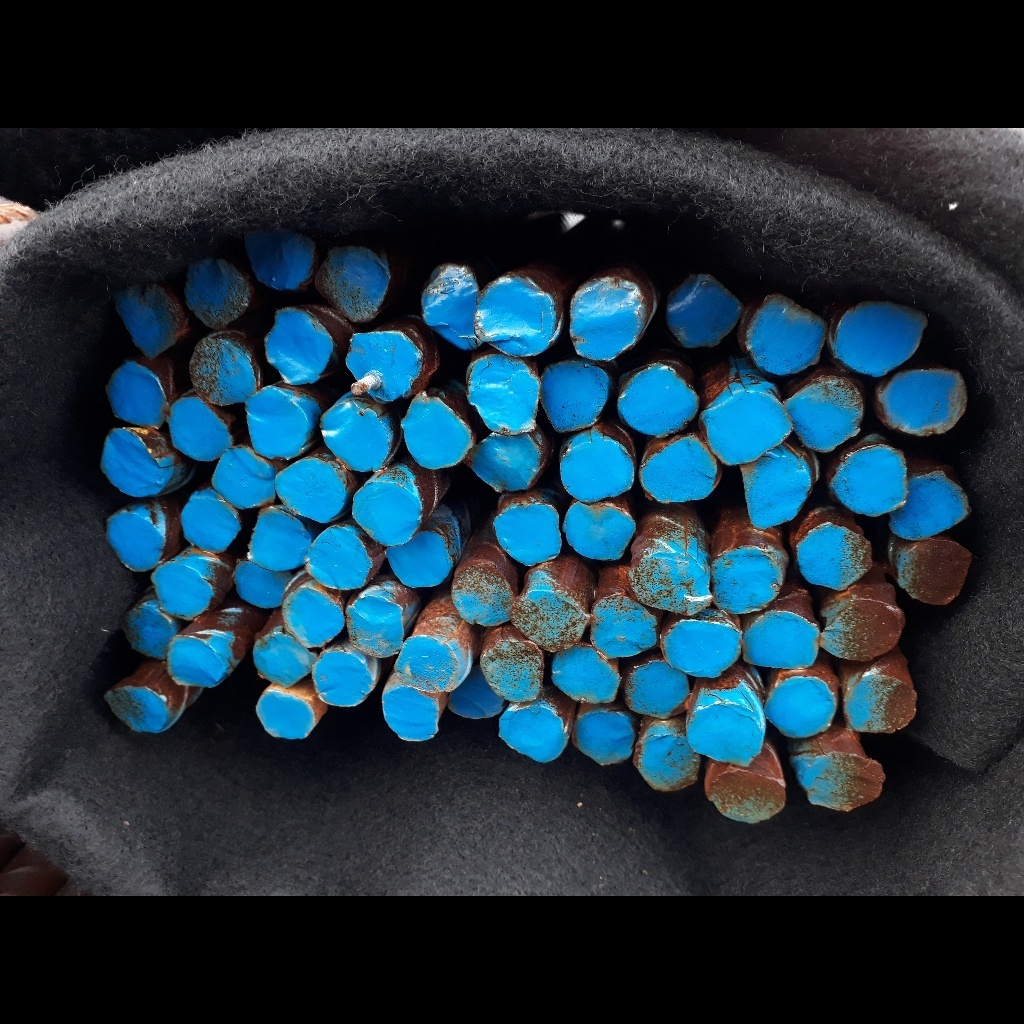dipstick: (834, 304, 926, 375), (750, 294, 828, 375), (478, 278, 555, 357), (572, 278, 643, 359), (619, 365, 697, 438), (708, 391, 789, 461), (630, 548, 711, 616), (320, 244, 390, 322), (401, 394, 471, 469), (471, 357, 540, 433), (115, 282, 187, 353), (671, 276, 741, 349), (268, 308, 333, 385), (346, 331, 420, 398), (640, 439, 717, 503), (423, 264, 480, 350), (821, 601, 904, 660), (796, 525, 873, 588), (321, 403, 391, 471), (562, 438, 634, 504), (790, 382, 860, 449), (804, 753, 885, 810), (712, 547, 783, 612), (893, 474, 965, 538), (838, 448, 905, 515), (746, 454, 806, 528), (190, 339, 258, 404), (188, 257, 249, 329), (275, 460, 346, 521), (901, 539, 967, 604), (101, 430, 165, 497), (768, 676, 837, 738), (690, 707, 763, 765), (543, 363, 606, 430), (664, 619, 739, 675), (708, 769, 785, 823), (107, 360, 168, 428), (744, 613, 818, 669), (513, 590, 583, 649), (845, 675, 916, 733), (247, 391, 308, 458), (565, 503, 634, 562), (496, 504, 560, 566), (591, 594, 656, 655), (354, 483, 421, 541), (384, 532, 453, 587), (495, 706, 565, 760), (306, 529, 370, 588), (168, 398, 228, 459), (247, 229, 312, 285), (483, 640, 541, 702), (551, 648, 620, 700), (638, 732, 697, 791), (105, 510, 162, 569), (215, 451, 275, 507), (628, 663, 689, 718), (184, 492, 239, 552), (476, 437, 537, 491), (103, 685, 168, 735), (250, 512, 307, 569), (313, 651, 371, 707), (253, 634, 313, 687), (153, 563, 209, 619), (348, 598, 402, 655), (395, 635, 453, 688), (575, 711, 635, 762), (455, 572, 511, 626), (383, 687, 437, 741), (284, 592, 343, 641), (169, 637, 224, 687), (231, 560, 284, 610), (256, 694, 312, 738), (125, 606, 173, 657), (452, 690, 500, 719)
